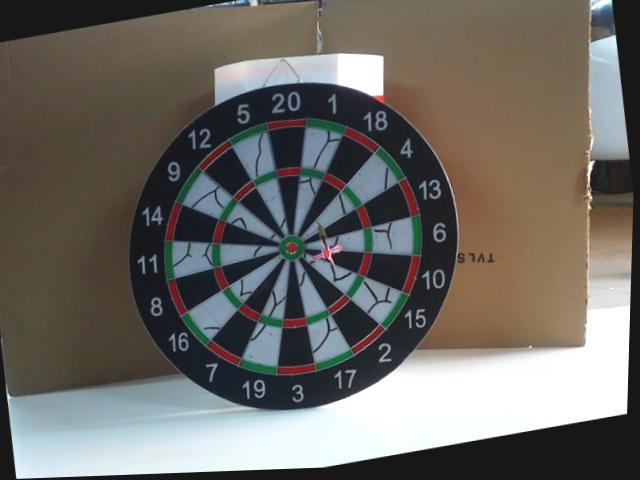single_4: (302, 196, 354, 239)
